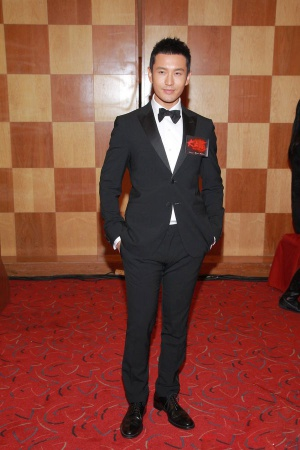male: (142, 38, 194, 111)
